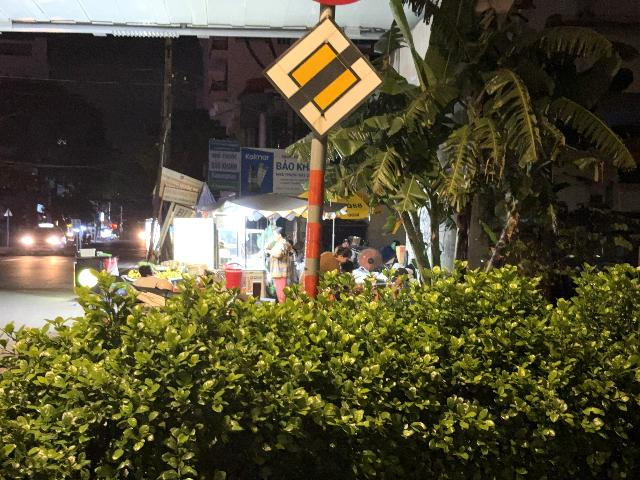het-duong-uu-tien: (262, 14, 386, 139)
